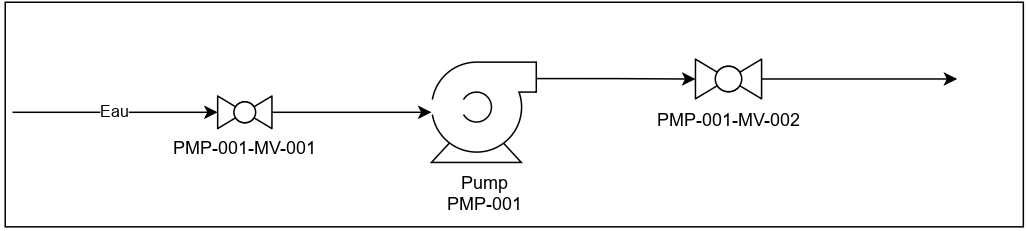valve: (689, 51, 768, 104), (210, 87, 279, 135)
